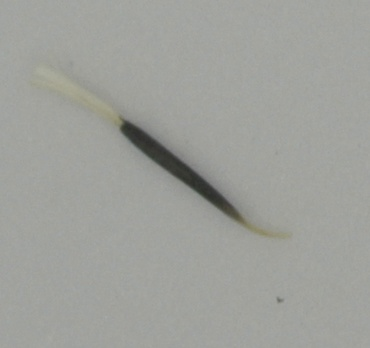เมล็ดดีเรียวยาว: (26, 61, 294, 244)
